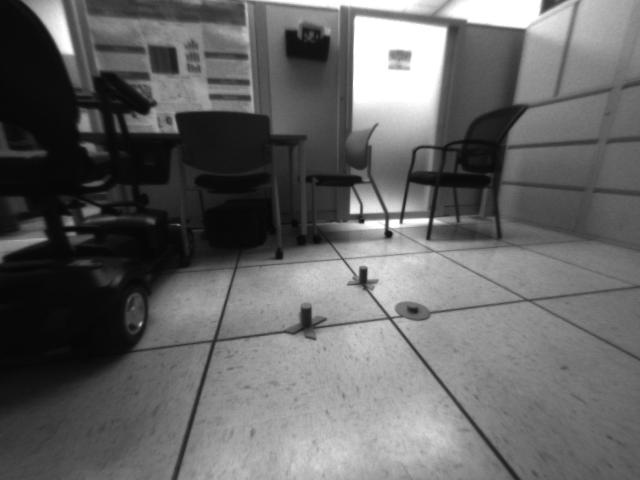X: (286, 302, 326, 339), (347, 265, 380, 292)
